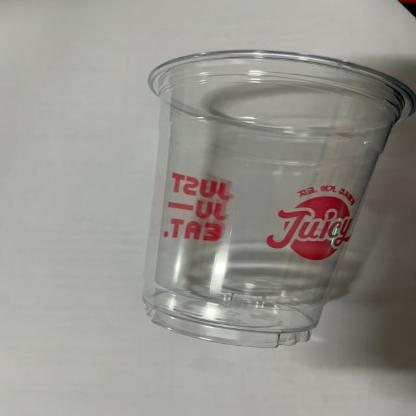Plastic Cup: (142, 44, 416, 350)
